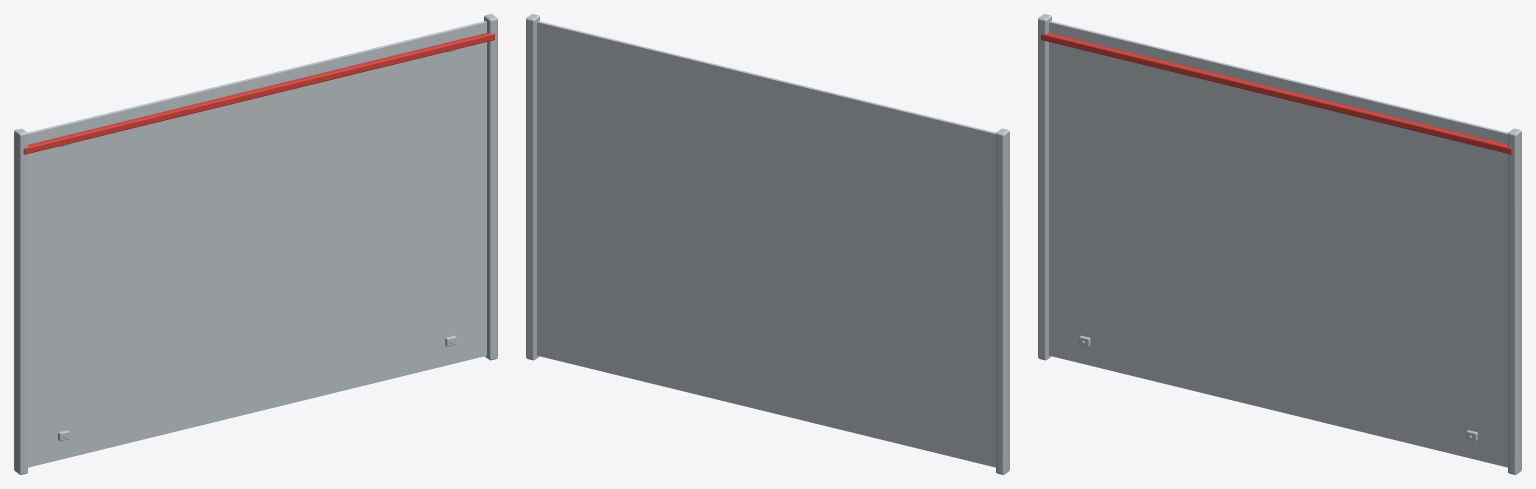
File: squash-club-and-racket-workshop-court-back-glass-wall-10d7e508__29737.glb
3 renders of one model, left to right at view 1: azimuth 30°, elevation 25°; view 2: azimuth 150°, elevation 25°; view 3: azimuth 330°, elevation 25°, orthographic.
Parts seen in each view (by area): view 1: court-back-glass-wall; view 2: court-back-glass-wall; view 3: court-back-glass-wall.
Boxes of the visible parts, bbox=[...] form: court-back-glass-wall: bbox=[14, 14, 497, 474]; court-back-glass-wall: bbox=[526, 14, 1009, 474]; court-back-glass-wall: bbox=[1038, 14, 1521, 474].
Bounding box in the file's own units: 3.3 × 2.25 × 0.086.
